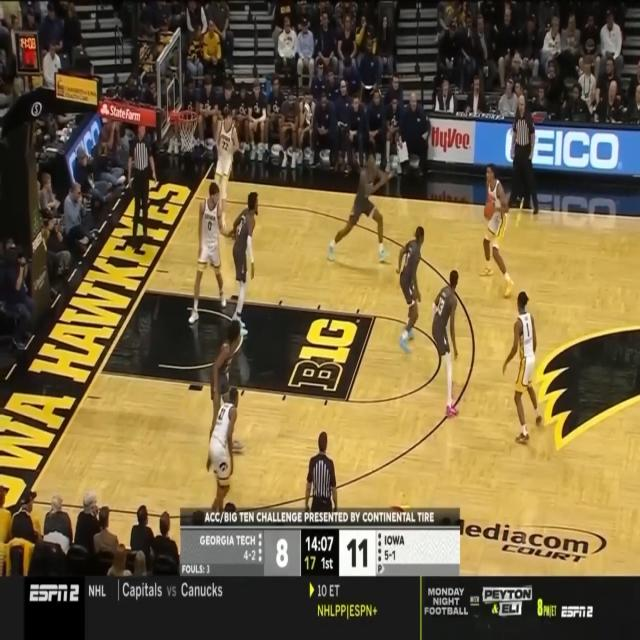Ball: (484, 201, 494, 220)
Clock: (14, 32, 41, 74)
Hoop: (178, 110, 198, 153)
Overlay: (0, 576, 640, 640), (180, 507, 460, 576)
Player: (327, 148, 393, 264), (188, 181, 234, 324), (502, 290, 542, 446), (208, 320, 246, 454), (205, 387, 239, 535), (479, 163, 515, 300), (432, 268, 461, 419), (232, 191, 259, 336), (396, 226, 424, 355), (212, 106, 240, 228)
Ref: (305, 430, 338, 577), (127, 122, 157, 248), (508, 94, 538, 216)
Scoreboard: (180, 530, 460, 576)
